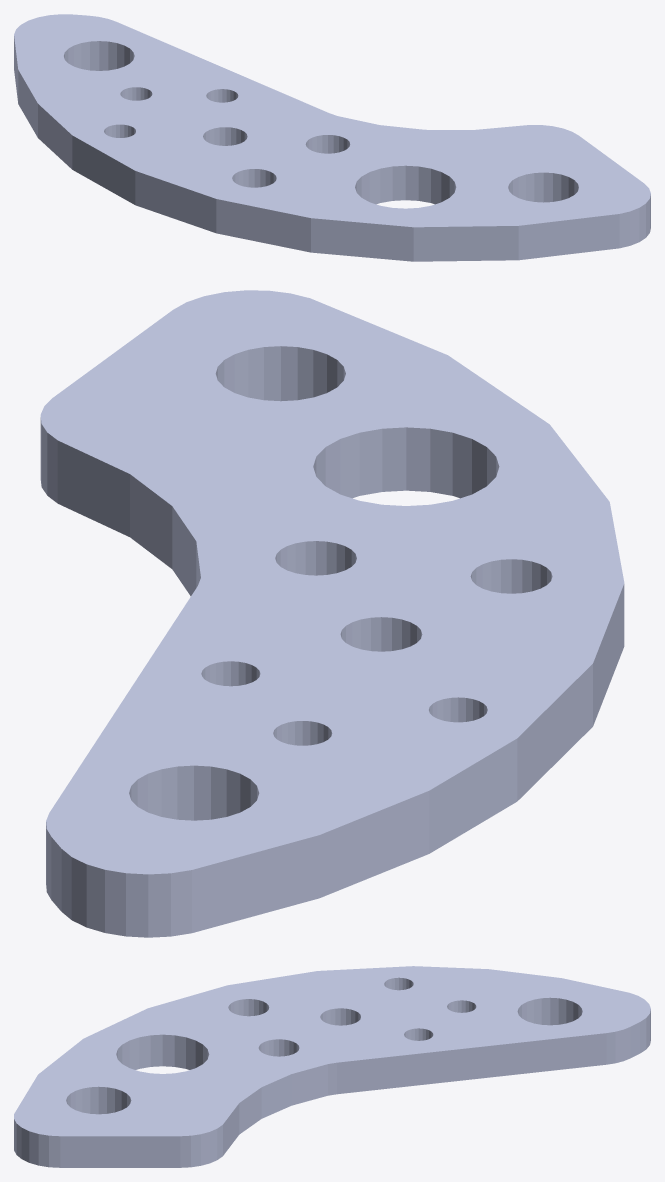
Rendered from T200_T200STEP_T200STEPSTEP_T200_CORE_T200_CORE_STDSTEPSTEP_T200STEP1_T200STEP1.obj.
The picture shows the model from 3 angles, top to bottom: view 1: azimuth 30°, elevation 25°; view 2: azimuth 150°, elevation 25°; view 3: azimuth 270°, elevation 25°; orthographic projection. The views are drawn at different scales.
Bounding box in the file's own units: 0.0173 × 0.0015 × 0.0274.
